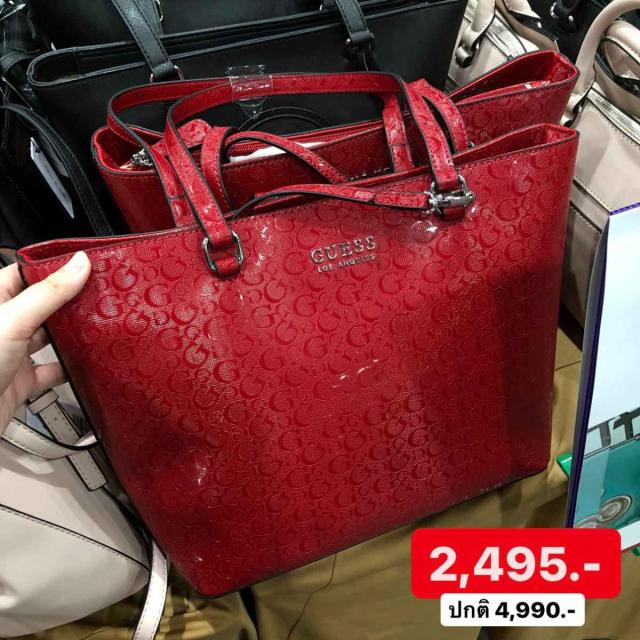handbag: (16, 129, 606, 612)
